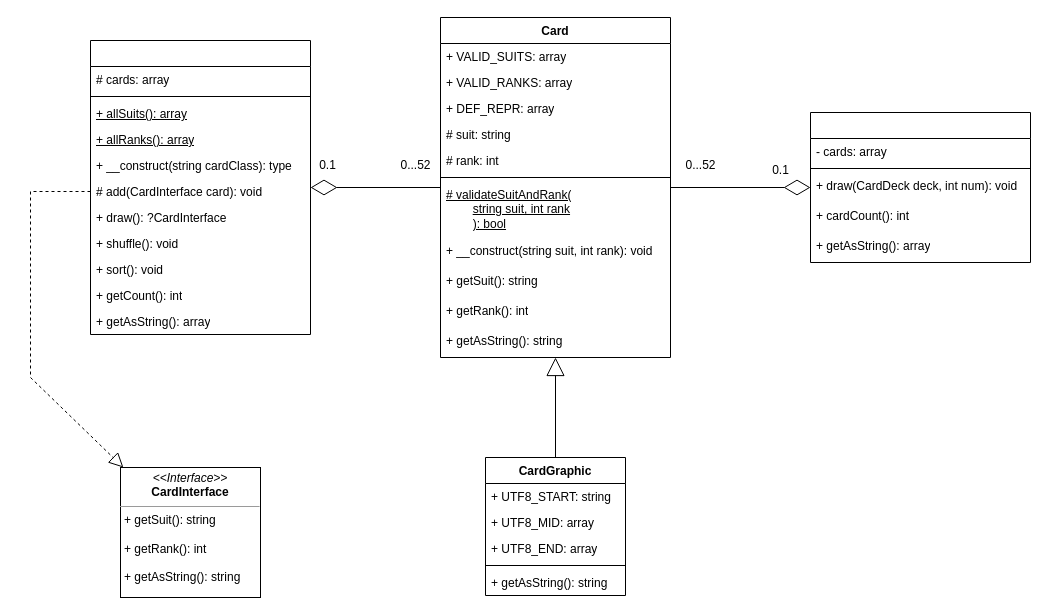
The diagram is 1048 pixels wide and 616 high, and some of its shapes have lost their labels. The box of each missing label's shape, as (x1, y1, x2, y2) in pixels:
CardDeck: (90, 40, 310, 334)
CardHand: (810, 112, 1030, 262)
